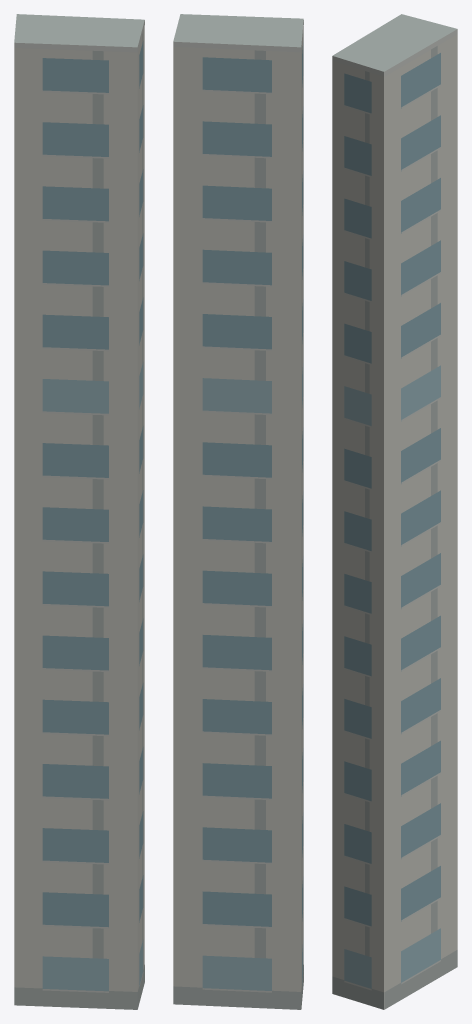
File: survey-upis-32746643.glb
The picture shows the model from 3 angles, left to right: view 1: azimuth 30°, elevation 25°; view 2: azimuth 210°, elevation 25°; view 3: azimuth 270°, elevation 25°; orthographic projection. The views are drawn at different scales.
Visible parts, largest first — view 1: survey-upis-32746643.tmp; view 2: survey-upis-32746643.tmp; view 3: survey-upis-32746643.tmp.
Boxes of the visible parts, x1,y1,x2,y2 form: survey-upis-32746643.tmp: (14, 14, 144, 1009); survey-upis-32746643.tmp: (173, 14, 303, 1009); survey-upis-32746643.tmp: (332, 14, 457, 1009).
Bounding box in the file's own units: 6.06 × 45.75 × 5.55.
